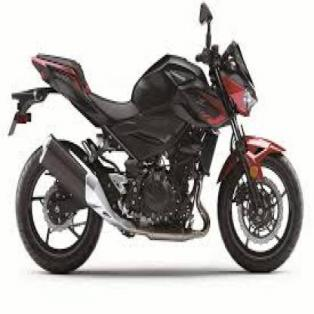Motocicleta: (8, 2, 304, 276)
